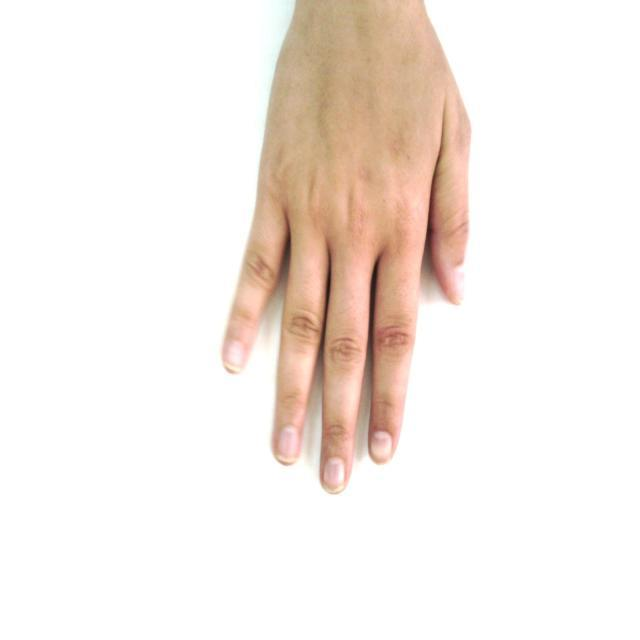Fingernail: (323, 458, 345, 493), (371, 431, 392, 463), (279, 427, 298, 461), (226, 342, 243, 369), (454, 266, 464, 300)
